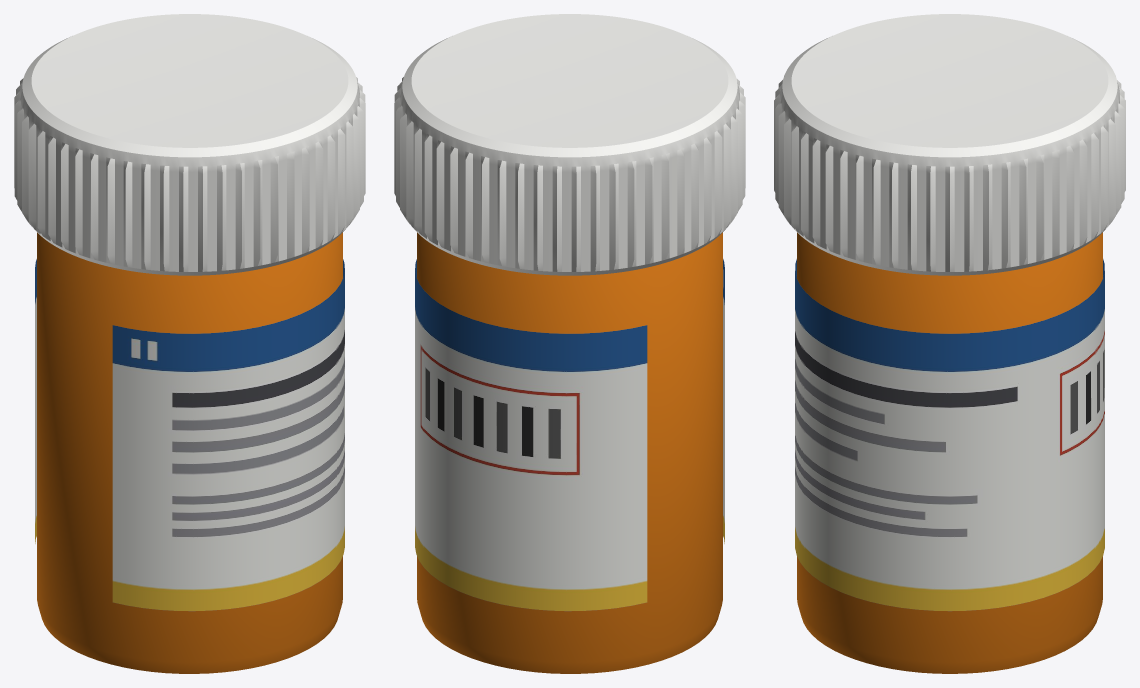
File: PillBottle.fbx
The picture shows the model from 3 angles, left to right: view 1: azimuth 30°, elevation 25°; view 2: azimuth 150°, elevation 25°; view 3: azimuth 270°, elevation 25°; orthographic projection.
Parts seen in each view (by area): view 1: pill-bottle_cap, pill-bottle_label, pill-bottle_vial; view 2: pill-bottle_cap, pill-bottle_label, pill-bottle_vial; view 3: pill-bottle_label, pill-bottle_cap, pill-bottle_vial.
Boxes of the visible parts, left/top/right/bottom form: pill-bottle_cap: left=14, top=14, right=365, bottom=275; pill-bottle_label: left=35, top=259, right=344, bottom=611; pill-bottle_vial: left=37, top=232, right=342, bottom=673; pill-bottle_cap: left=394, top=14, right=745, bottom=275; pill-bottle_label: left=415, top=259, right=724, bottom=611; pill-bottle_vial: left=417, top=232, right=722, bottom=673; pill-bottle_label: left=795, top=259, right=1104, bottom=611; pill-bottle_cap: left=774, top=14, right=1125, bottom=275; pill-bottle_vial: left=797, top=232, right=1102, bottom=673.
Bounding box in the file's own units: 4.6 × 7.7 × 4.6.
